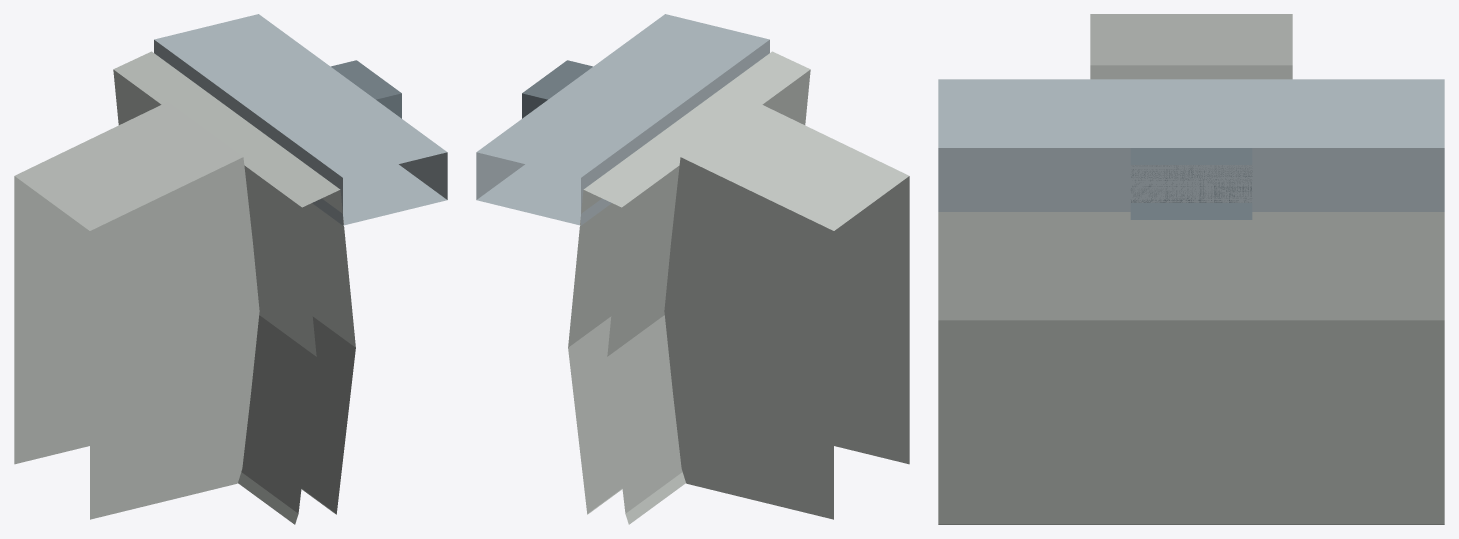
File: cell_124.obj
3 views of the same model, side by side, from view 1: azimuth 30°, elevation 25°; view 2: azimuth 150°, elevation 25°; view 3: azimuth 270°, elevation 25° (orthographic). The views are drawn at different scales.
Size of the model in its own units: 1 by 0.98 by 1.
